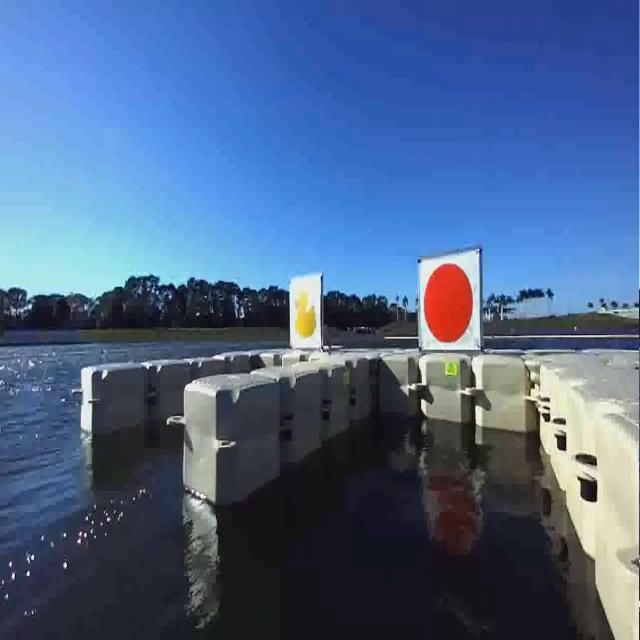red-dot: (418, 255, 480, 357)
yellow-duck: (288, 276, 326, 348)
